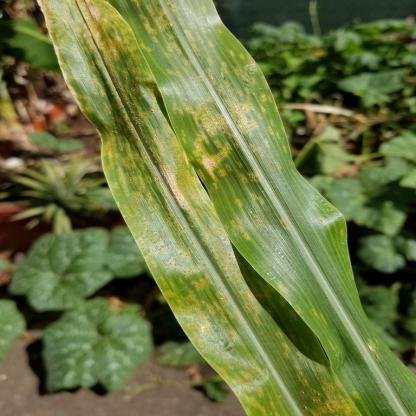corn rust leaf: (35, 0, 415, 416)
